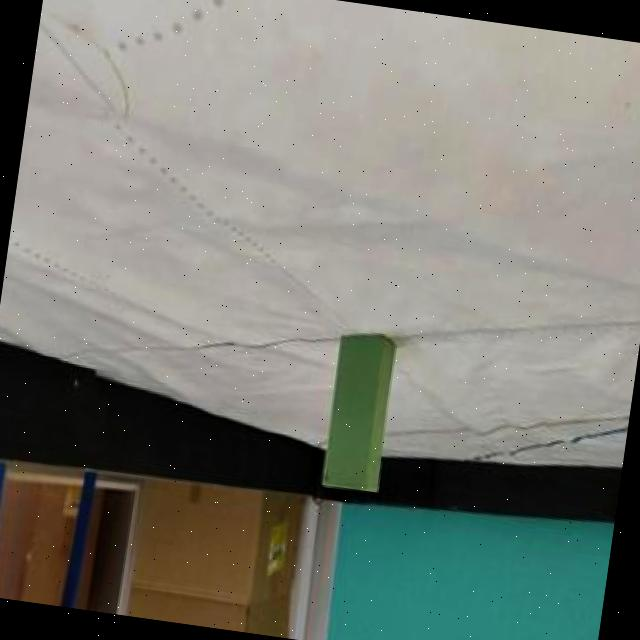greenbox: (320, 330, 400, 495)
